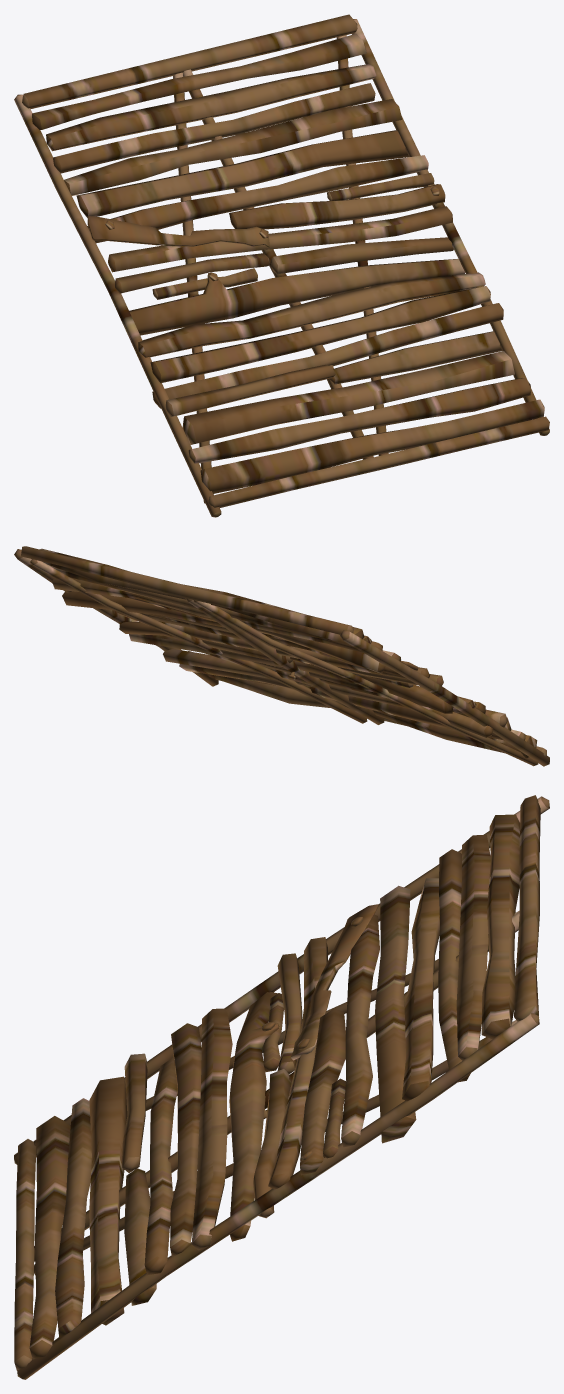
The model's file is stair.glb.
3 views of the same model, one above another, from view 1: azimuth 30°, elevation 25°; view 2: azimuth 150°, elevation 25°; view 3: azimuth 270°, elevation 25° (orthographic). The views are drawn at different scales.
Visible parts, largest first — view 1: Default__PBWA_W1_StairW_C; view 2: Default__PBWA_W1_StairW_C; view 3: Default__PBWA_W1_StairW_C.
Part boxes in pixels (box(x1,y1,x2,y2)): Default__PBWA_W1_StairW_C: box(14, 14, 549, 517); Default__PBWA_W1_StairW_C: box(14, 546, 549, 766); Default__PBWA_W1_StairW_C: box(14, 795, 549, 1379).
Bounding box in the file's own units: 5.15 × 4.03 × 5.24.
Materials: 1 (1 with a texture image).
